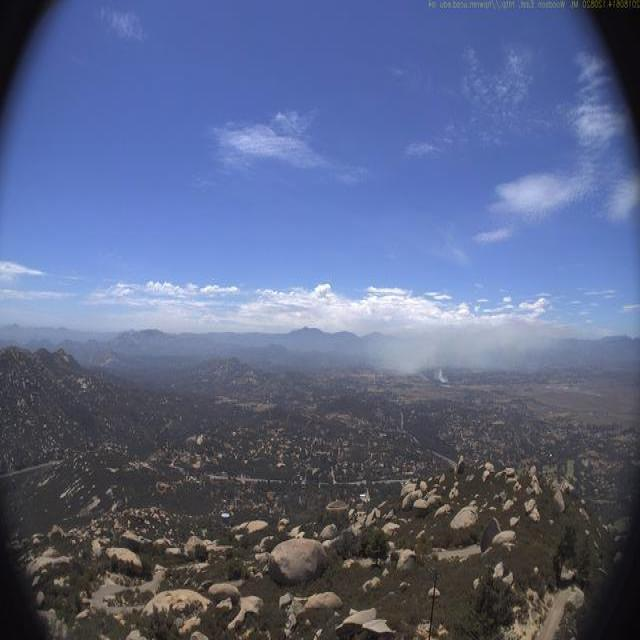Smoke: (360, 302, 570, 389)
